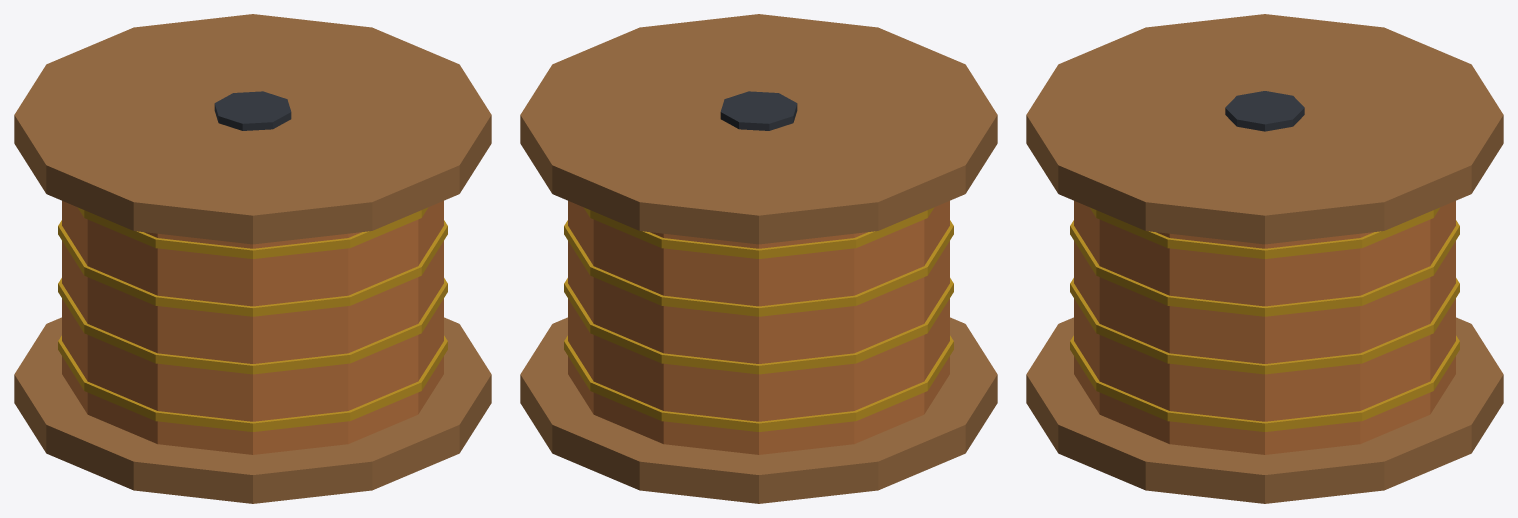
The model's file is prop_lift_cable_spool.glb.
3 views of the same model, side by side, from view 1: azimuth 30°, elevation 25°; view 2: azimuth 150°, elevation 25°; view 3: azimuth 270°, elevation 25° (orthographic).
Visible parts, largest first — view 1: prop_lift_cable_spool; view 2: prop_lift_cable_spool; view 3: prop_lift_cable_spool.
Boxes of the visible parts, x1,y1,x2,y2 form: prop_lift_cable_spool: (14,14,491,503); prop_lift_cable_spool: (520,14,997,503); prop_lift_cable_spool: (1026,14,1503,503).
Size of the model in its own units: 0.6 by 0.42 by 0.6.
1 material, 1 textured.
